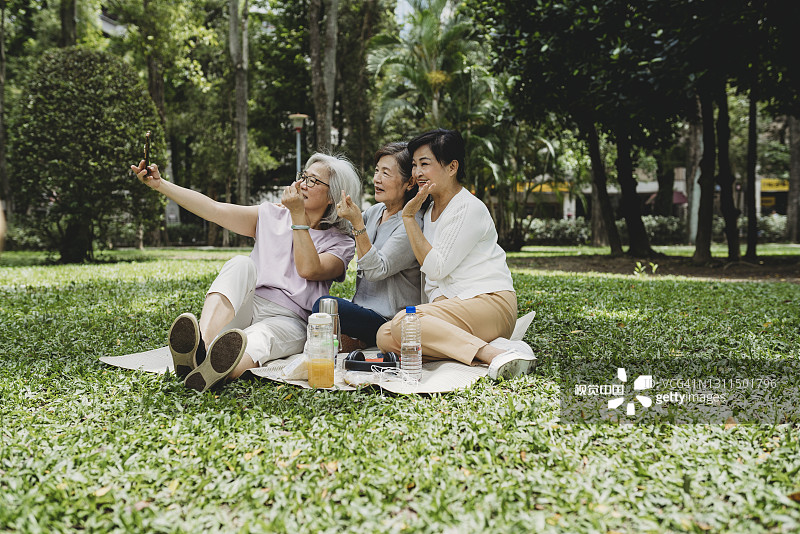no-phone: (398, 177, 441, 224), (275, 176, 312, 222), (330, 186, 369, 228)
taking photos: (124, 142, 172, 198)
